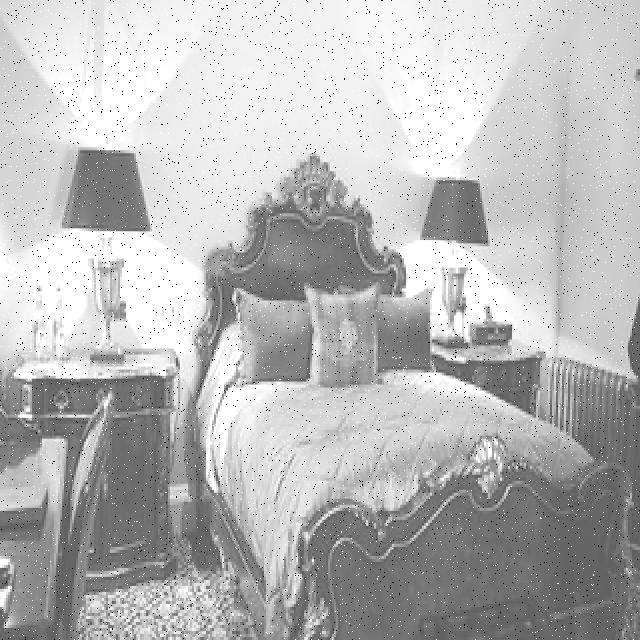bed: (193, 224, 562, 618)
